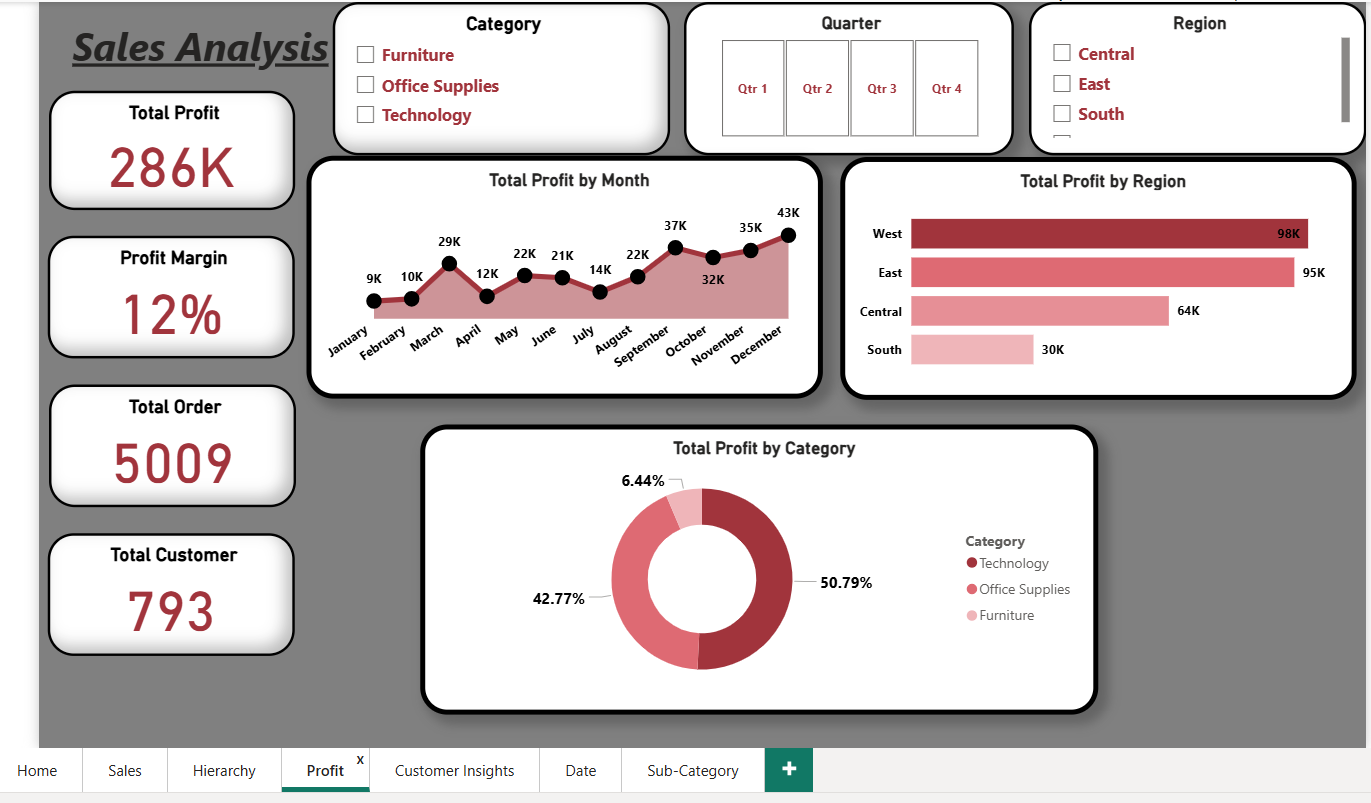

This screenshot's page, from the dashboard's own definition file:
{"tool":"powerbi","page":{"name":"Profit","canvas":[1280,720],"ordinal":3},"visuals":[{"type":"card","title":"Total Profit","fields":{"Values":["DAXmeasure.T_profit"]},"box":[9.6,85.1,237.4,115.3],"z":0},{"type":"card","title":"Profit Margin","fields":{"Values":["DAXmeasure.Profit margin"]},"box":[8.2,226,238.8,118],"z":1000},{"type":"slicer","title":"Category","fields":{"Values":["ProductDim.Category"]},"box":[284,0,325.2,148.2],"z":2000},{"type":"textbox","box":[9.6,12.3,292.3,119.4],"z":3000},{"type":"slicer","title":"Quarter","fields":{"Values":["DateDim.Order Date.Variation.Date Hierarchy.Quarter"]},"box":[623,0,318.4,148.2],"z":4000},{"type":"slicer","title":"Region","fields":{"Values":["CustomerDim.Region"]},"box":[955.1,0,325.2,148.2],"z":5000},{"type":"lineChart","title":"Total Profit by Month","fields":{"Y":["DAXmeasure.T_profit"],"Category":["DateDim.Order Date.Variation.Date Hierarchy.Month"]},"box":[258,148.2,498.1,234.6],"z":6000},{"type":"card","title":"Total Order","fields":{"Values":["DAXmeasure.T_order"]},"box":[9.6,369.6,238.8,118],"z":7000},{"type":"card","title":"Total Customer","fields":{"Values":["DAXmeasure.T_customer"]},"box":[8.2,513.2,238.8,118],"z":8000},{"type":"donutChart","title":"Total Profit by Category","fields":{"Category":["ProductDim.Category"],"Y":["DAXmeasure.T_profit"]},"box":[367.8,407.5,654.5,279.9],"z":9000},{"type":"barChart","title":"Total Profit by Region","fields":{"Y":["DAXmeasure.T_profit"],"Category":["CustomerDim.Region"]},"box":[773.9,149.6,498.1,234.6],"z":10000}]}

Visuals, with their boxes in screenshot pixels (x1, y1, x2, y2):
"Total Profit" card: {"left": 53, "top": 90, "right": 294, "bottom": 208}
"Profit Margin" card: {"left": 51, "top": 234, "right": 294, "bottom": 354}
"Category" slicer: {"left": 332, "top": 4, "right": 664, "bottom": 155}
textbox: {"left": 53, "top": 16, "right": 350, "bottom": 138}
"Quarter" slicer: {"left": 678, "top": 4, "right": 1002, "bottom": 155}
"Region" slicer: {"left": 1016, "top": 4, "right": 1347, "bottom": 155}
"Total Profit by Month" lineChart: {"left": 306, "top": 155, "right": 813, "bottom": 394}
"Total Order" card: {"left": 53, "top": 380, "right": 296, "bottom": 500}
"Total Customer" card: {"left": 51, "top": 526, "right": 294, "bottom": 647}
"Total Profit by Category" donutChart: {"left": 418, "top": 419, "right": 1084, "bottom": 704}
"Total Profit by Region" barChart: {"left": 831, "top": 156, "right": 1339, "bottom": 395}
